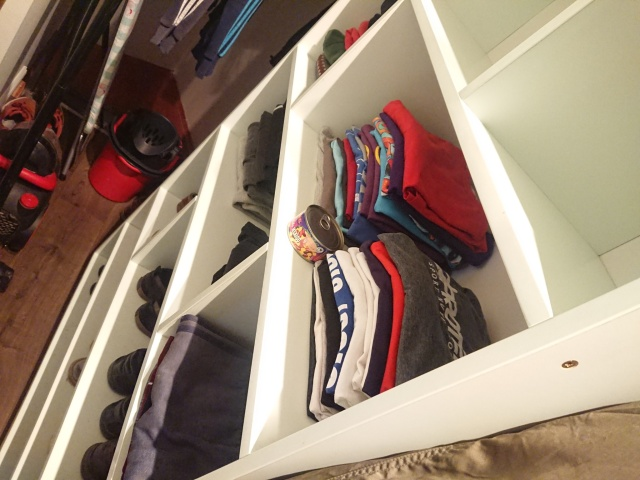Giana Tuna Salad Mexico 185g: (285, 202, 347, 267)
